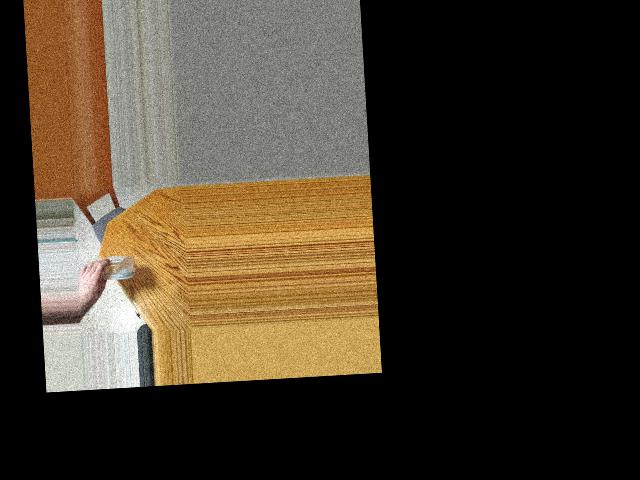cheese: (86, 247, 133, 289)
